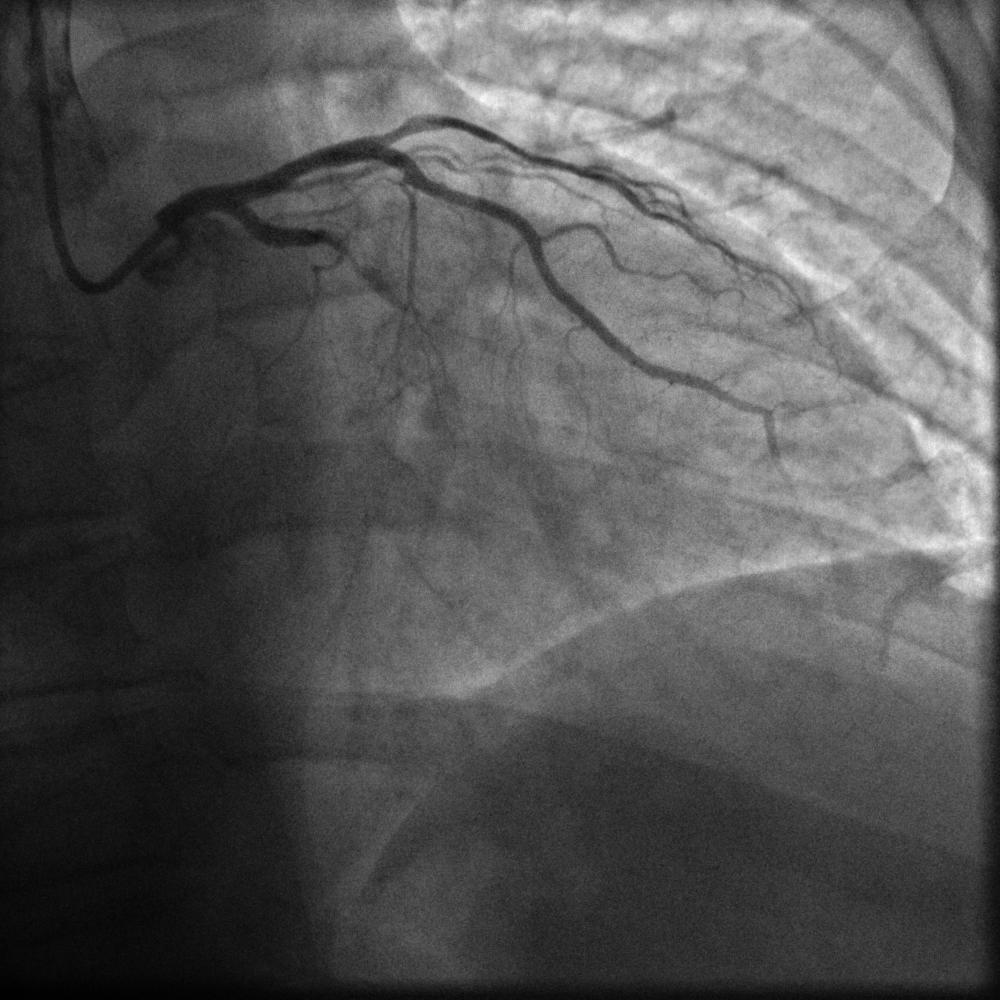Stenosis: (310, 225, 370, 270)
